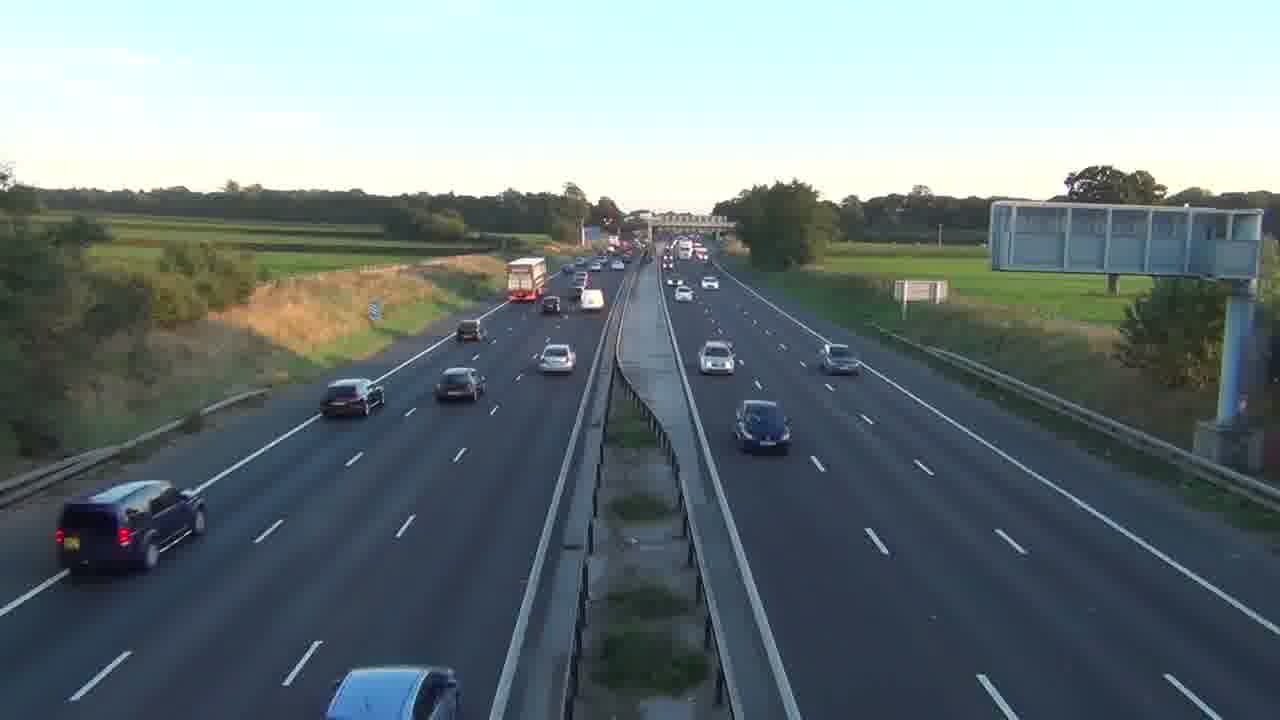car: (324, 665, 463, 719), (733, 398, 792, 453), (319, 378, 382, 419), (433, 366, 484, 403), (697, 339, 736, 376), (536, 342, 577, 374)
truck: (52, 478, 209, 574)
